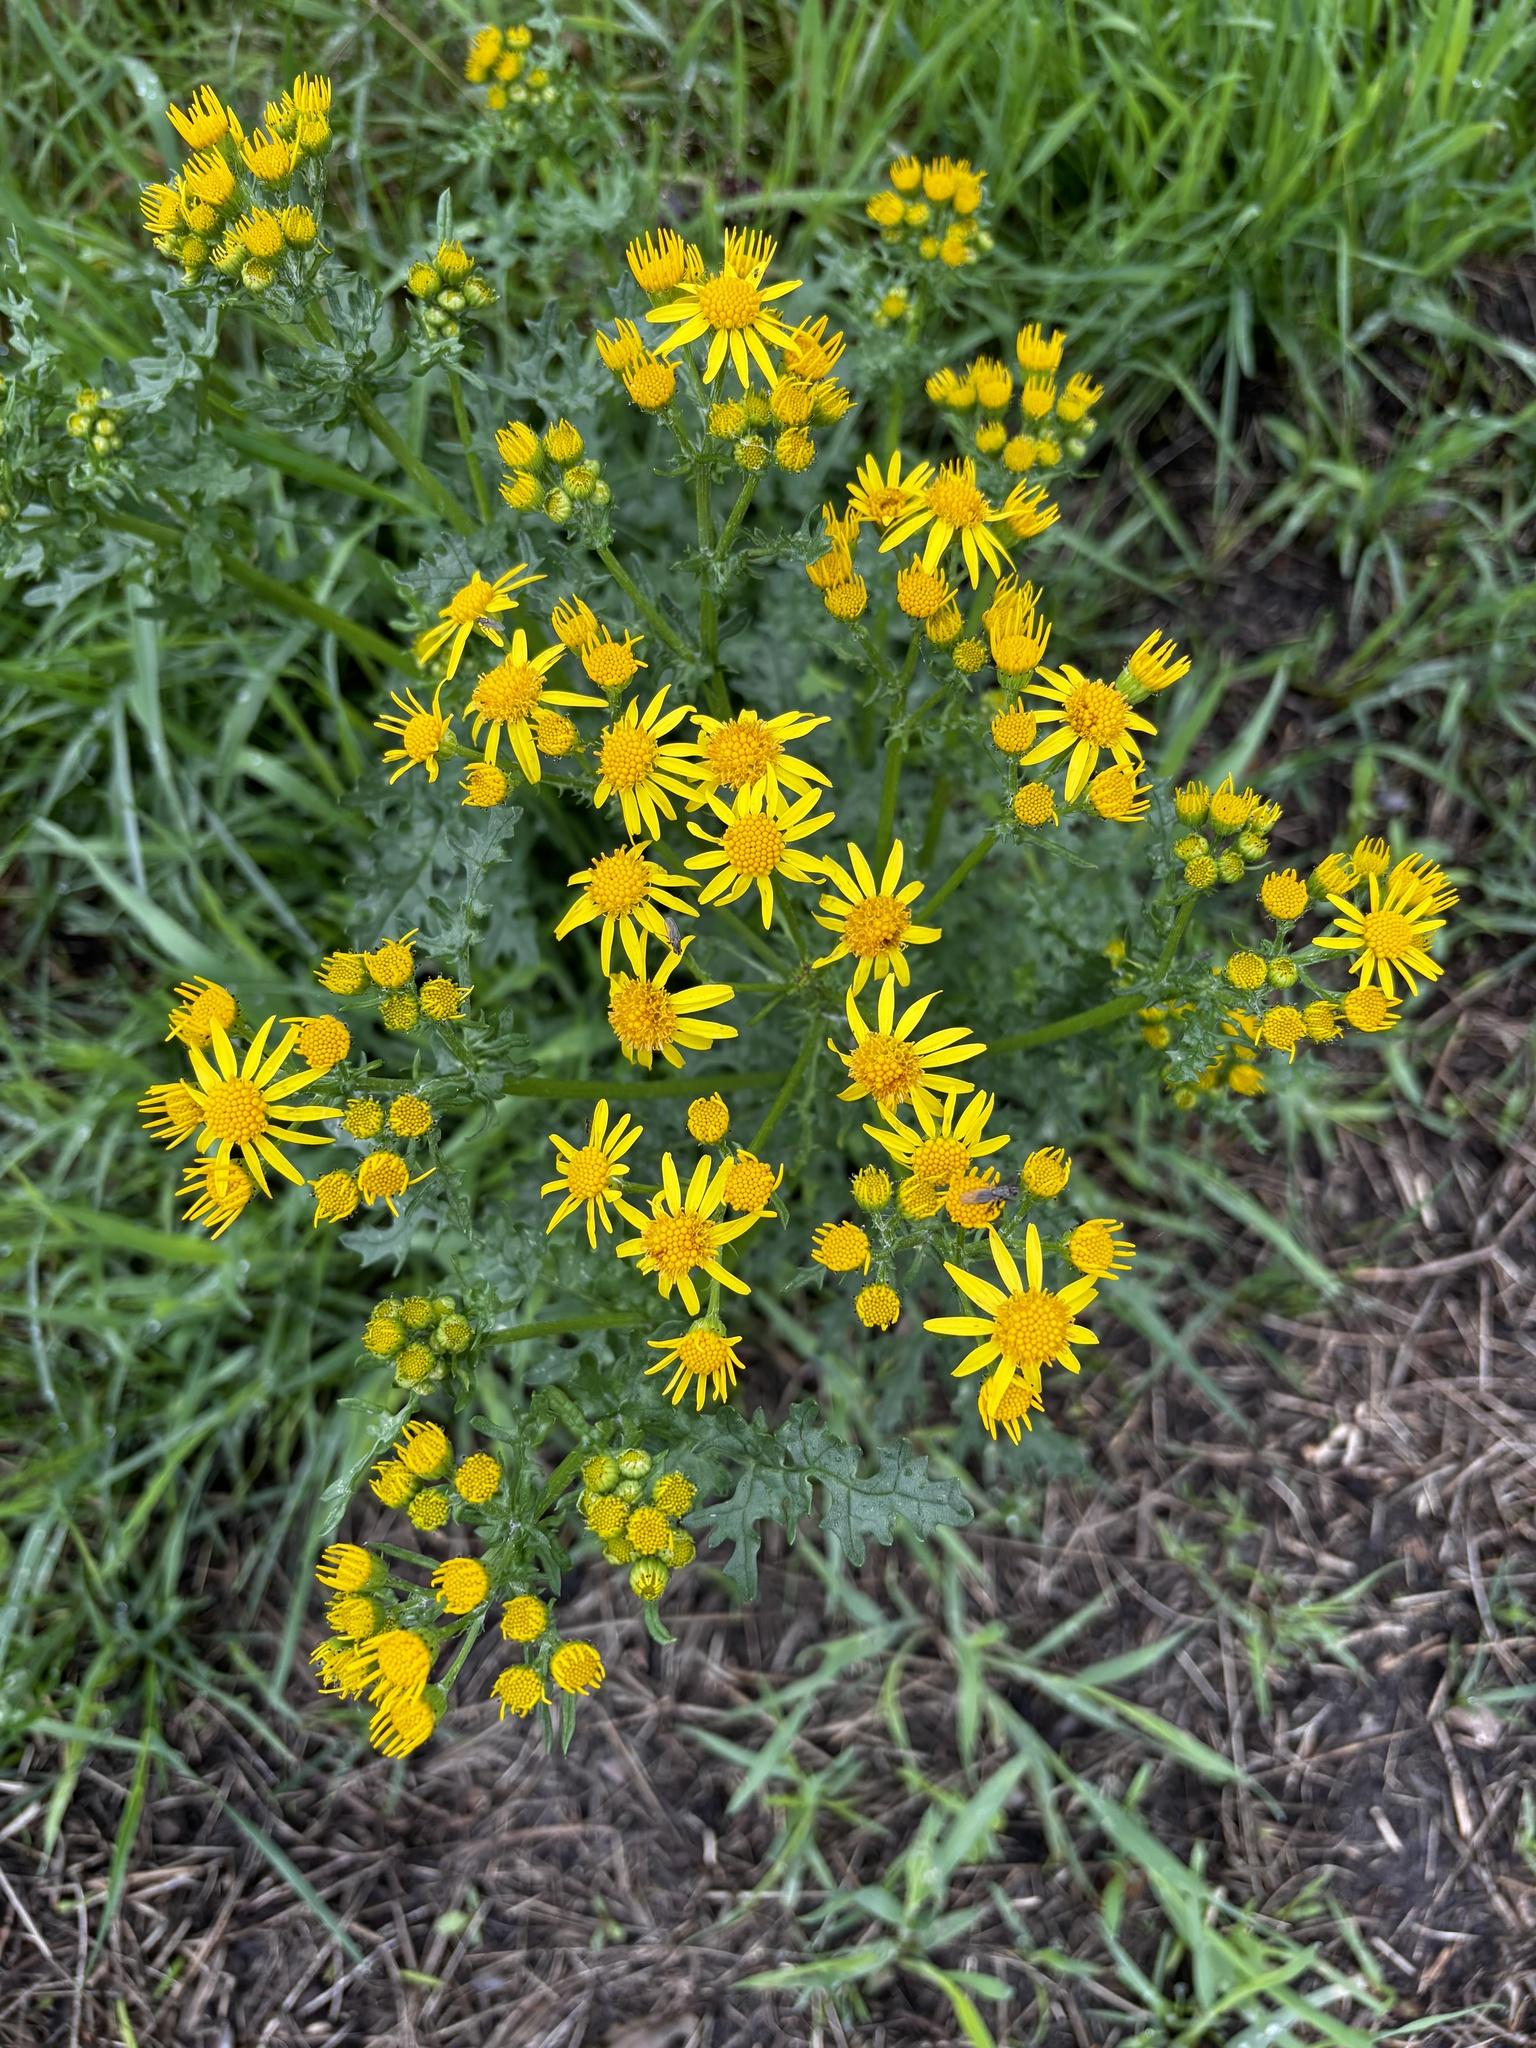Jacobaea vulgaris: (77, 53, 1504, 1843)
